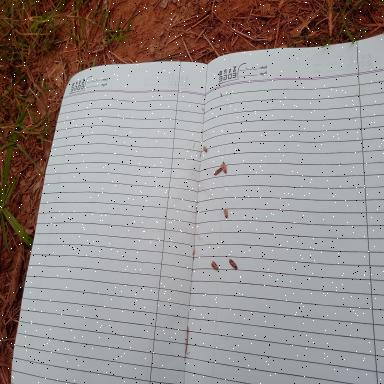pbw: (228, 258, 238, 270), (214, 168, 223, 176), (221, 162, 227, 174), (211, 260, 218, 270), (224, 207, 228, 218), (203, 146, 209, 152)
